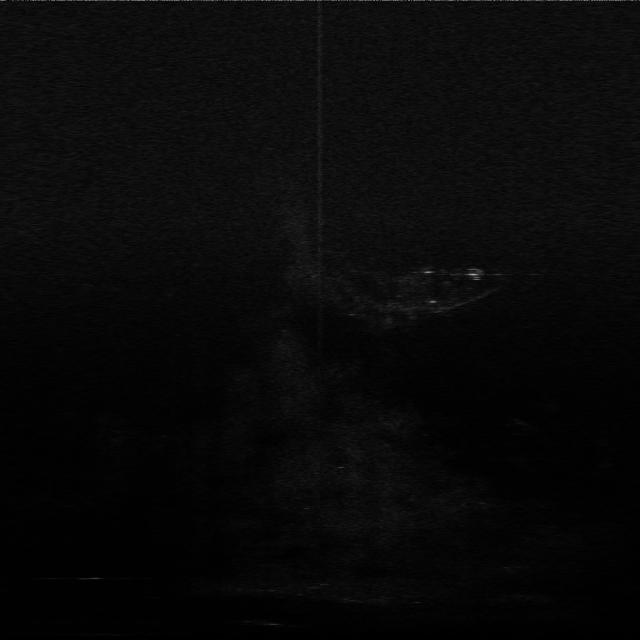rov: (462, 265, 491, 281)
